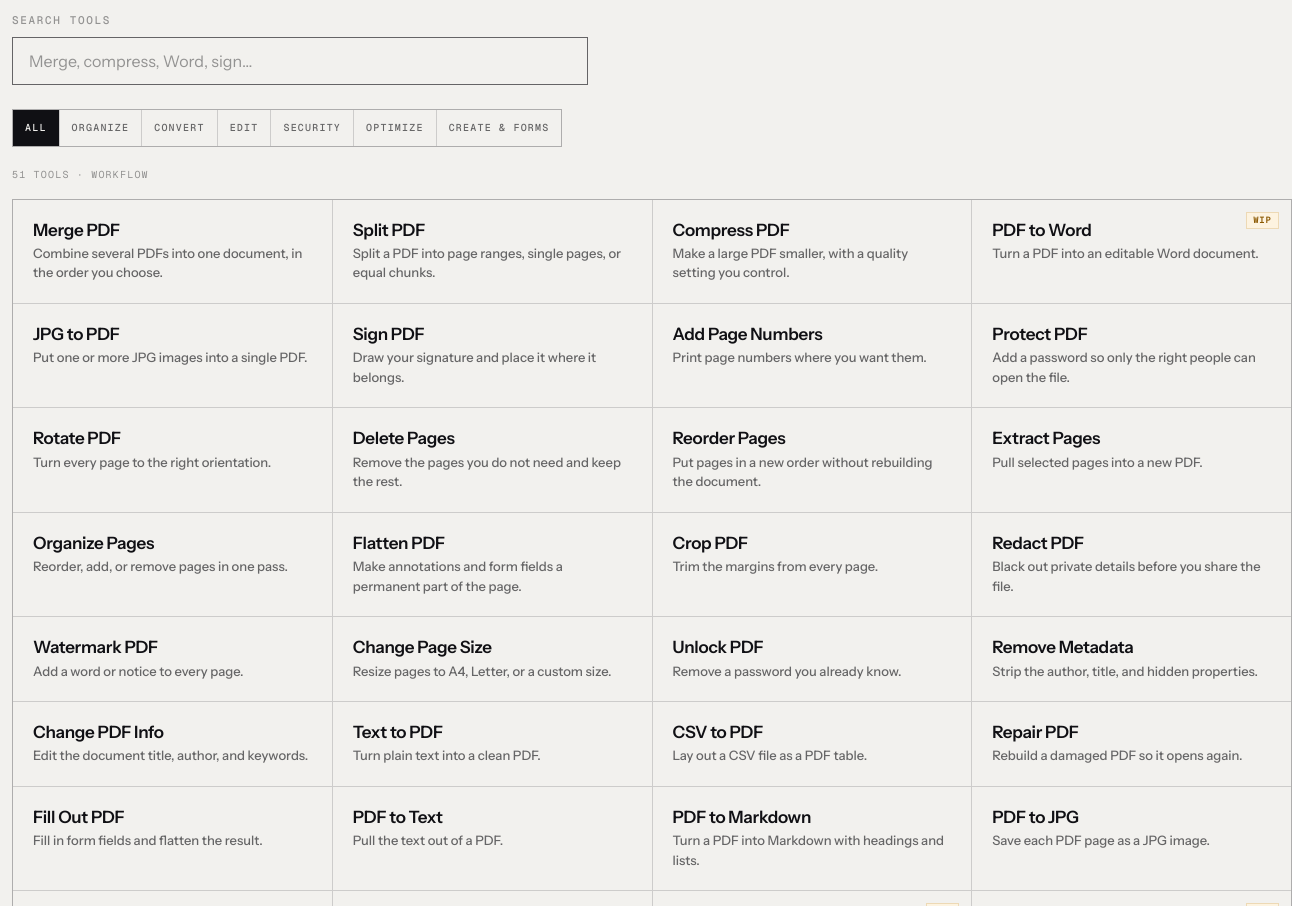
ToolsFilter › filters tools by category
Click the button "Security". click: (312, 128)
box: [271,110,353,146]
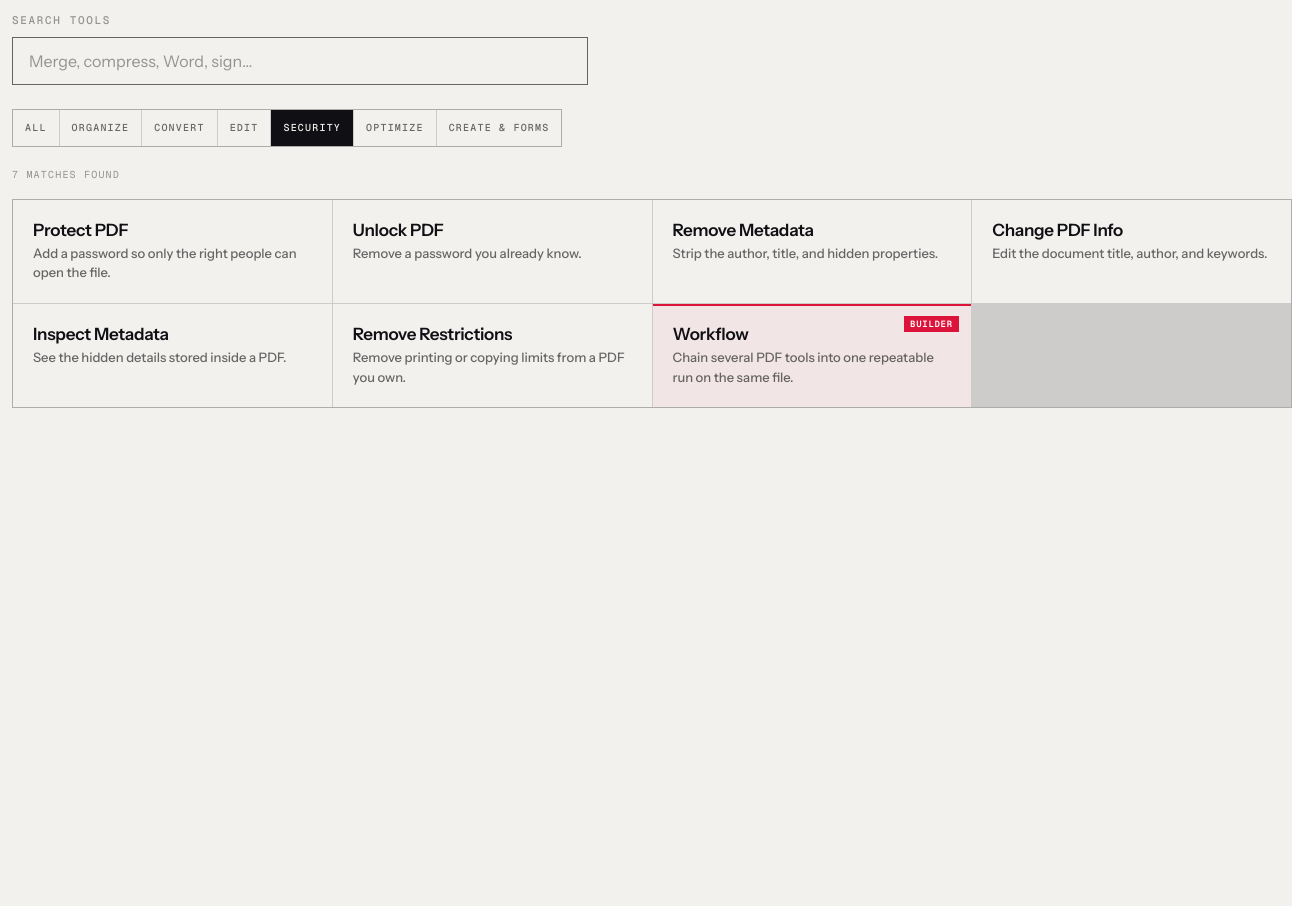
Expected: the text "Protect PDF" is shown, [33,220,128,240]
Now the link "Merge PDF" is gone
